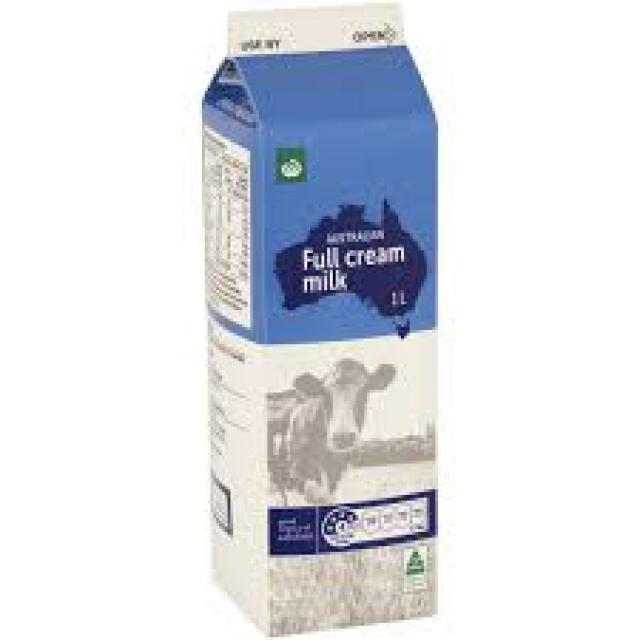non_white_jug: (175, 17, 454, 640)
